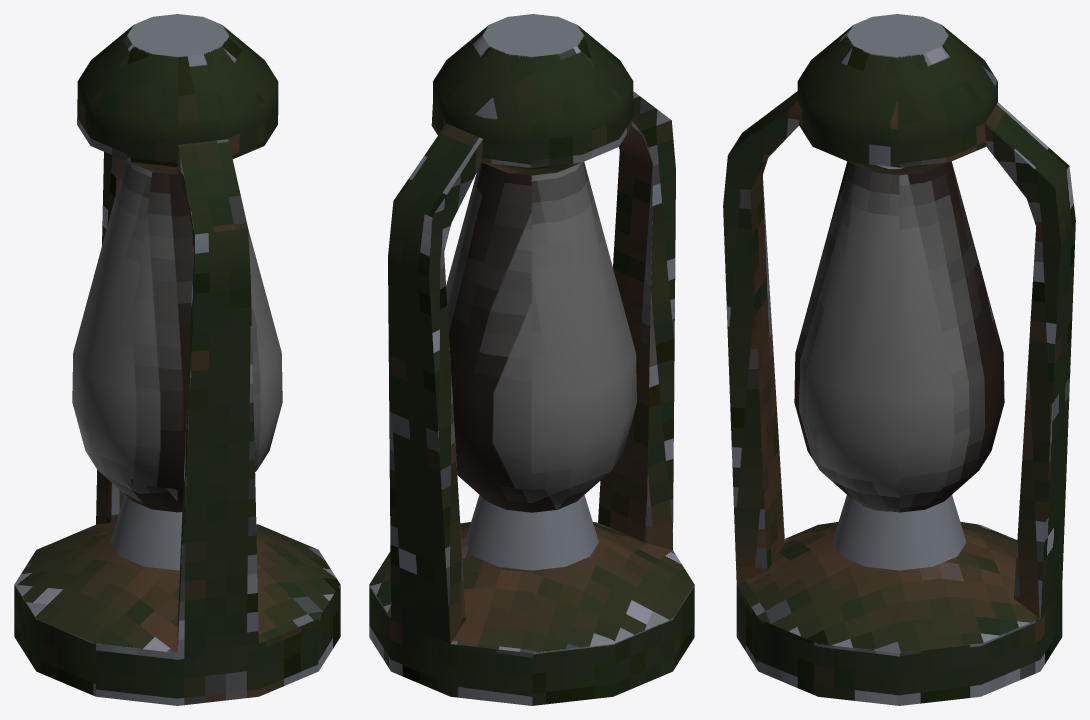
The model's file is lamp.fbx.
The picture shows the model from 3 angles, left to right: view 1: azimuth 30°, elevation 25°; view 2: azimuth 150°, elevation 25°; view 3: azimuth 270°, elevation 25°; orthographic projection.
Parts seen in each view (by area): view 1: Cylinder.016; view 2: Cylinder.016; view 3: Cylinder.016.
Part boxes in pixels (<box>): Cylinder.016: <box>14,14,340,705</box>; Cylinder.016: <box>369,14,694,705</box>; Cylinder.016: <box>723,14,1075,705</box>.
Bounding box in the file's own units: 19.72 × 40.19 × 21.36.
